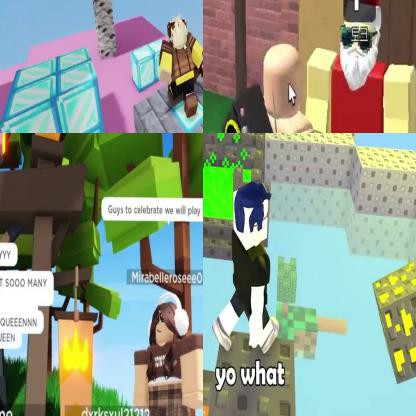Roblox-Avatar: (306, 1, 416, 133), (213, 182, 280, 355), (222, 43, 344, 133), (133, 292, 203, 416), (160, 14, 203, 120)
